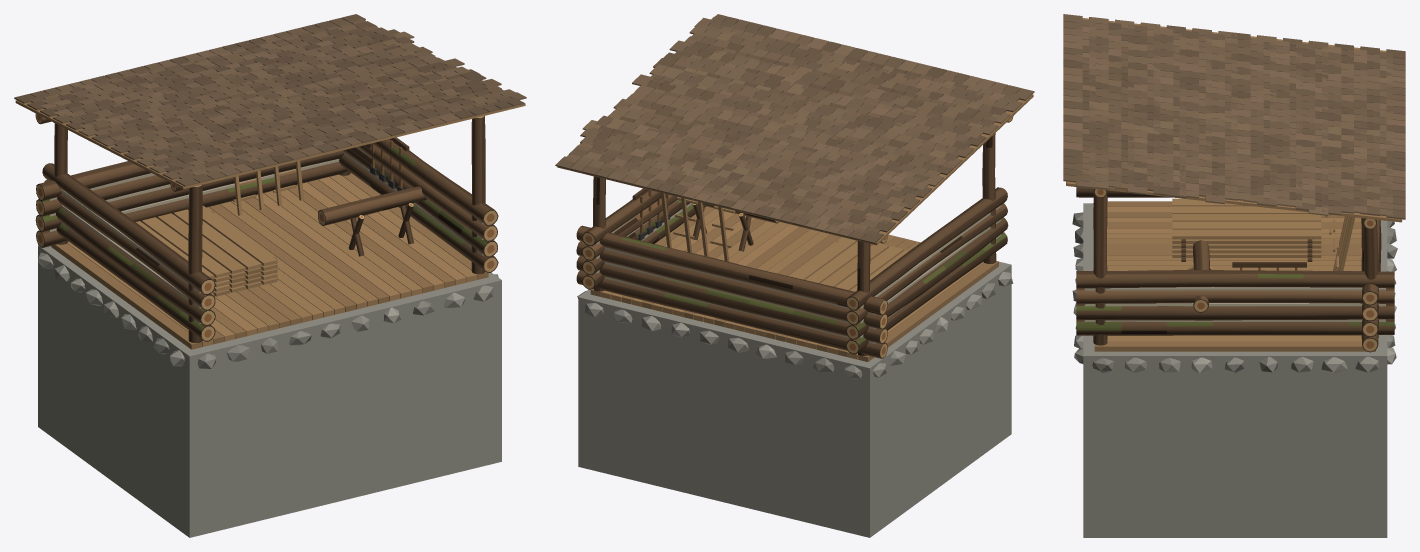
The model's file is insaatci.glb.
The picture shows the model from 3 angles, left to right: view 1: azimuth 30°, elevation 25°; view 2: azimuth 150°, elevation 25°; view 3: azimuth 270°, elevation 25°; orthographic projection. The views are drawn at different scales.
Parts seen in each view (by area): view 1: stone-plinth-001, plank-001, shingle-001, shingle-002, plank-stack-002, log-011, log-001, log-004, log-005, log-work-019, stone-found-002, log-008 (+13 smaller); view 2: stone-plinth-001, shingle-002, shingle-001, plank-001, log-010, log-004, log-007, log-001, log-011, plank-stack-002, stone-found-003, log-005 (+12 smaller); view 3: stone-plinth-001, shingle-002, shingle-001, plank-001, plank-stack-002, log-012, log-009, log-006, log-003, stone-found-005, log-015, stone-found-002 (+7 smaller).
Part boxes in pixels (x1=…): stone-plinth-001: x1=38, y1=245, x2=501, y2=537; plank-001: x1=51, y1=173, x2=488, y2=349; shingle-001: x1=98, y1=57, x2=526, y2=189; shingle-002: x1=14, y1=14, x2=440, y2=145; plank-stack-002: x1=136, y1=205, x2=277, y2=296; log-011: x1=42, y1=163, x2=215, y2=294; log-001: x1=36, y1=161, x2=348, y2=247; log-004: x1=35, y1=150, x2=343, y2=231; log-005: x1=56, y1=208, x2=215, y2=325; log-work-019: x1=318, y1=186, x2=426, y2=256; stone-found-002: x1=197, y1=285, x2=493, y2=368; log-008: x1=44, y1=179, x2=215, y2=310; stone-plinth-001: x1=578, y1=261, x2=1011, y2=537; shingle-002: x1=555, y1=89, x2=955, y2=245; shingle-001: x1=632, y1=14, x2=1034, y2=170; plank-001: x1=590, y1=206, x2=998, y2=361; log-010: x1=576, y1=225, x2=887, y2=315; log-004: x1=576, y1=256, x2=887, y2=343; log-007: x1=576, y1=241, x2=887, y2=329; log-001: x1=576, y1=270, x2=887, y2=358; log-011: x1=846, y1=187, x2=1007, y2=310; plank-stack-002: x1=790, y1=237, x2=909, y2=291; stone-found-003: x1=585, y1=303, x2=862, y2=379; log-005: x1=846, y1=217, x2=1008, y2=339; stone-plinth-001: x1=1083, y1=203, x2=1387, y2=537; shingle-002: x1=1231, y1=32, x2=1405, y2=222; shingle-001: x1=1063, y1=14, x2=1237, y2=204; plank-001: x1=1094, y1=201, x2=1375, y2=351; plank-stack-002: x1=1172, y1=198, x2=1321, y2=261; log-012: x1=1076, y1=270, x2=1394, y2=290; log-009: x1=1076, y1=288, x2=1394, y2=306; log-006: x1=1076, y1=304, x2=1394, y2=321; log-003: x1=1076, y1=319, x2=1394, y2=335; stone-found-005: x1=1092, y1=355, x2=1379, y2=373; log-015: x1=1093, y1=189, x2=1107, y2=345; stone-found-002: x1=1072, y1=212, x2=1083, y2=363.
Bounding box in the file's own units: 7.1 × 7 × 5.97.
